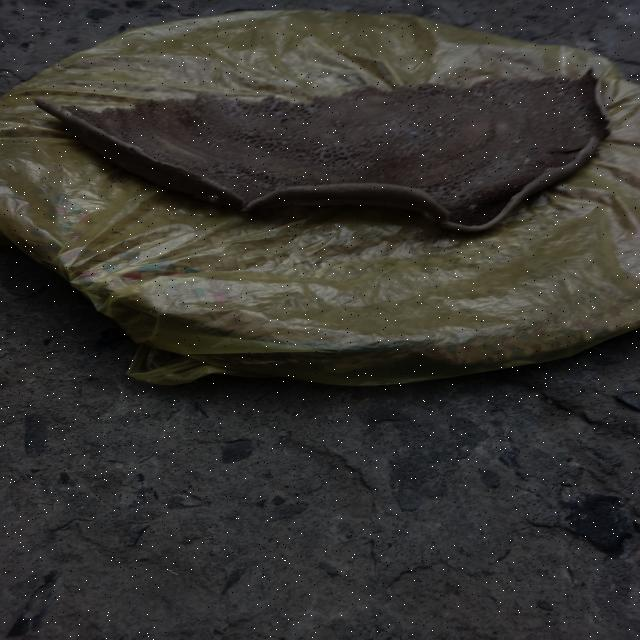injera_mold: (571, 127, 590, 135), (468, 202, 480, 211), (504, 101, 516, 109), (521, 158, 532, 166), (529, 146, 540, 152), (576, 105, 587, 110), (410, 133, 419, 138), (512, 185, 518, 189), (498, 155, 504, 159), (476, 181, 483, 184)
